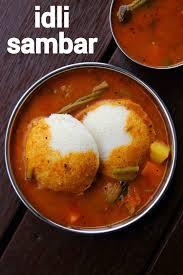idli: (30, 111, 147, 181)
sambhar: (110, 2, 183, 70), (28, 185, 146, 223), (28, 70, 144, 107)
